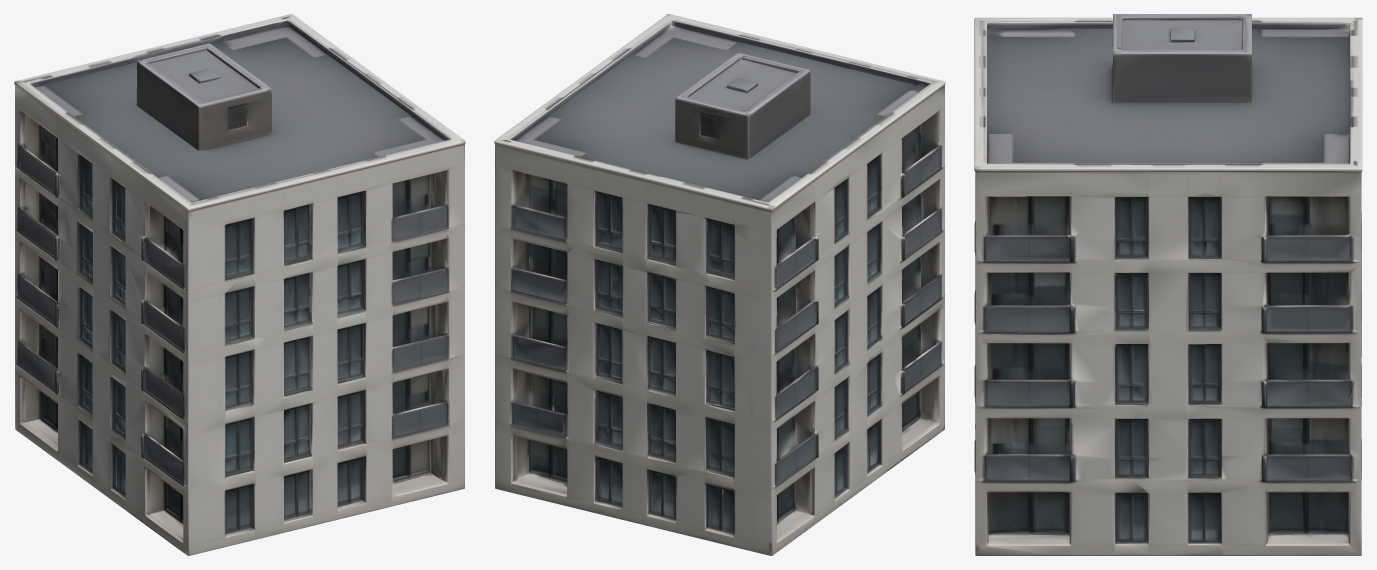
The model's file is white_building.glb.
3 views of the same model, side by side, from view 1: azimuth 30°, elevation 25°; view 2: azimuth 150°, elevation 25°; view 3: azimuth 270°, elevation 25° (orthographic). The views are drawn at different scales.
Parts seen in each view (by area): view 1: node_0; view 2: node_0; view 3: node_0.
Boxes of the visible parts, left/top/right/bottom form: node_0: left=14, top=14, right=465, bottom=555; node_0: left=494, top=14, right=945, bottom=555; node_0: left=974, top=14, right=1362, bottom=555.
Size of the model in its own units: 0.6172 by 0.8063 by 0.6583.
Materials: 1 (1 with a texture image).
